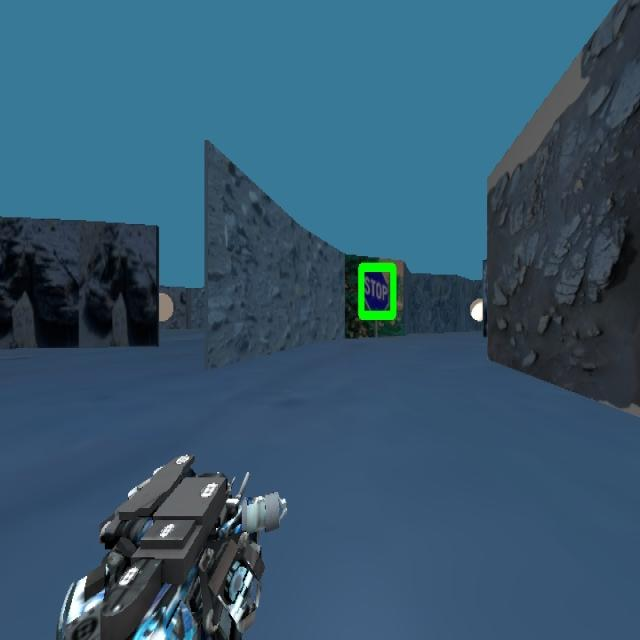Circle: (460, 278, 509, 340), (140, 276, 176, 338)
Stop_Sign: (357, 260, 398, 321)
